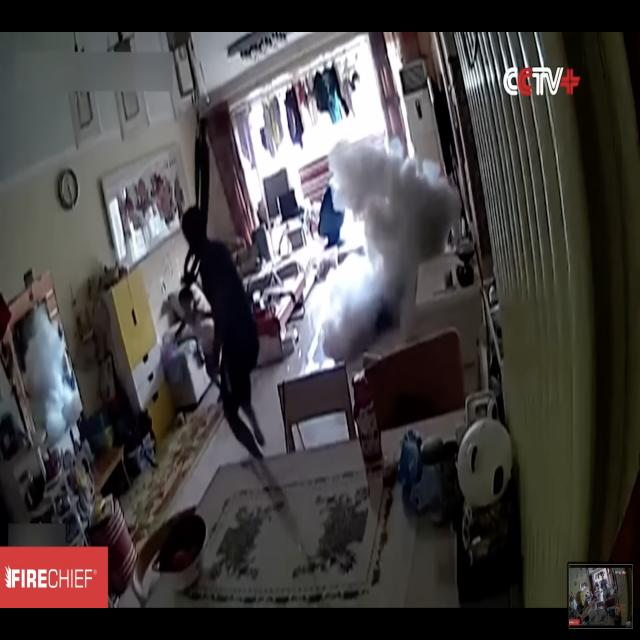Atencao: (294, 124, 458, 362)
Fogo: (350, 256, 385, 301)
